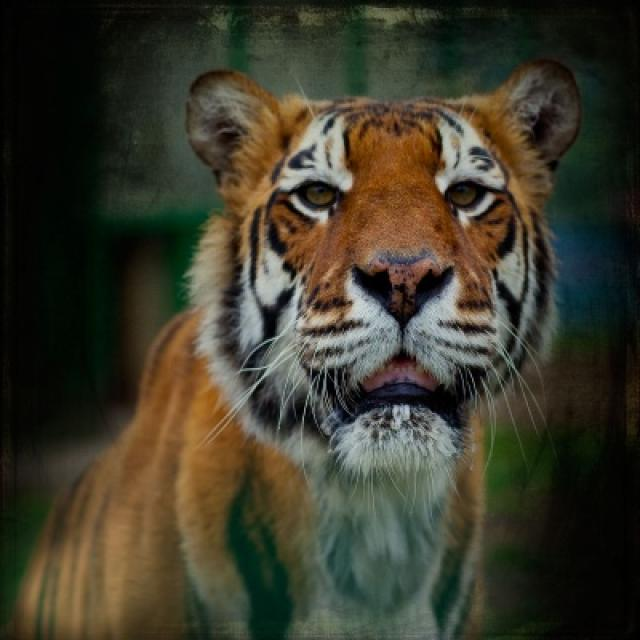Tiger: (9, 54, 586, 638)
